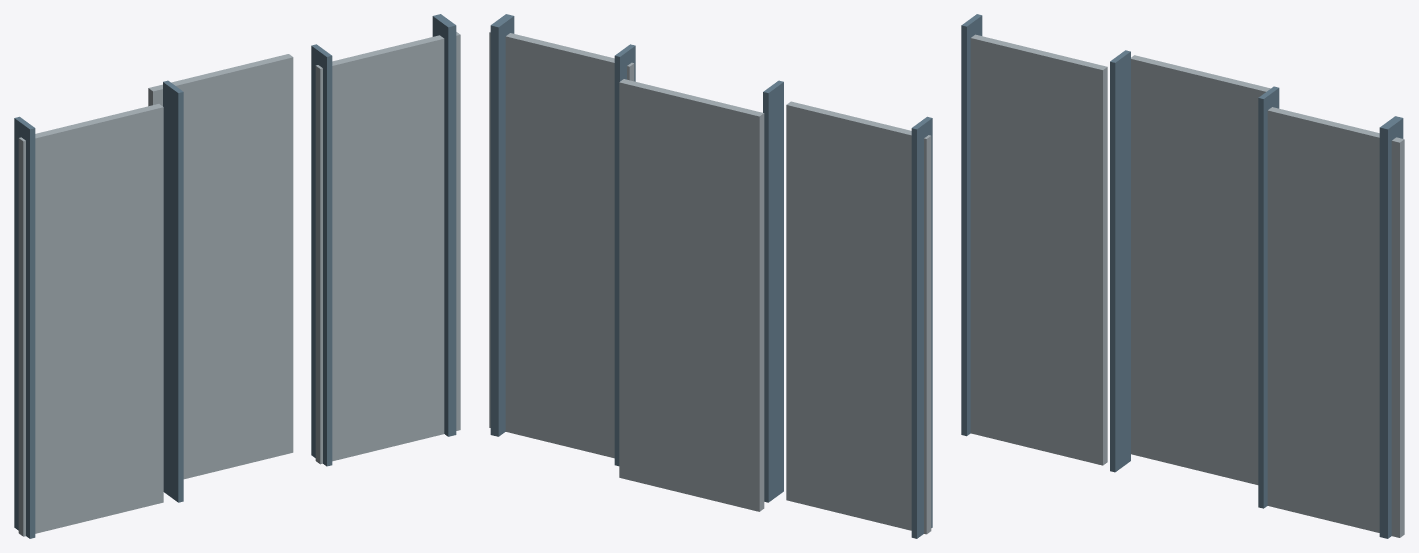
File: med_privacy_screen.glb
3 renders of one model, left to right at view 1: azimuth 30°, elevation 25°; view 2: azimuth 150°, elevation 25°; view 3: azimuth 330°, elevation 25°, orthographic.
Parts seen in each view (by area): view 1: sw5e_int_med_privacy_screen; view 2: sw5e_int_med_privacy_screen; view 3: sw5e_int_med_privacy_screen.
Boxes of the visible parts, box(x1,y1,x2,y2) form: sw5e_int_med_privacy_screen: box(14, 14, 460, 538); sw5e_int_med_privacy_screen: box(489, 14, 932, 538); sw5e_int_med_privacy_screen: box(961, 14, 1404, 538).
Size of the model in its own units: 1.62 by 1.45 by 0.175.
